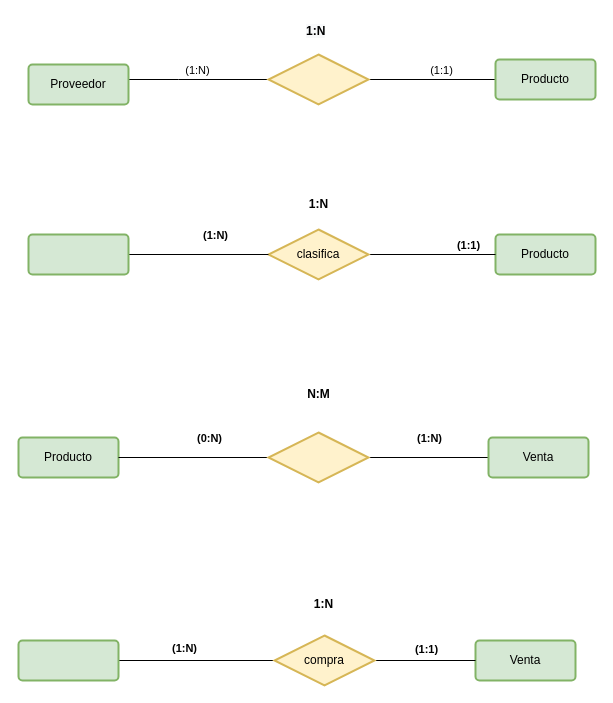
This 613x703 diagram has some shape labels left out. The shapes that lost their labels are listed below. From the top down, each one's centre as x and y in pixels, then its label:
At (x=318, y=79): "Provee".
At (x=78, y=254): "Categoria".
At (x=318, y=457): "detalle".
At (x=68, y=660): "Cliente".
